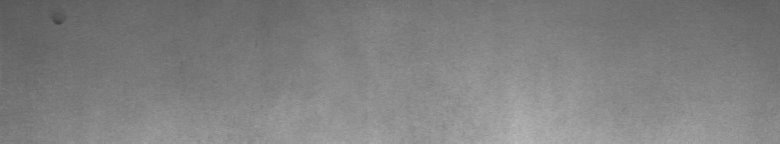fi: (51, 16, 66, 32)
